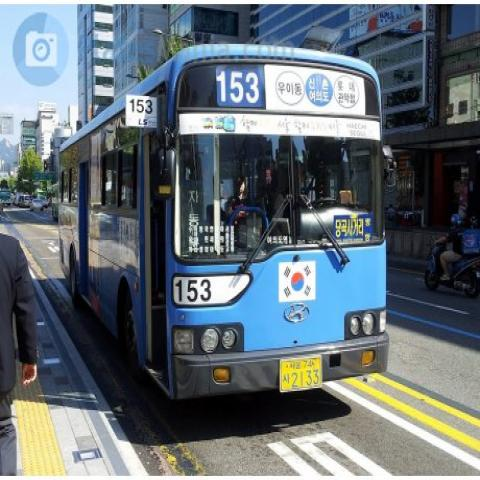LP: (270, 341, 328, 400)
